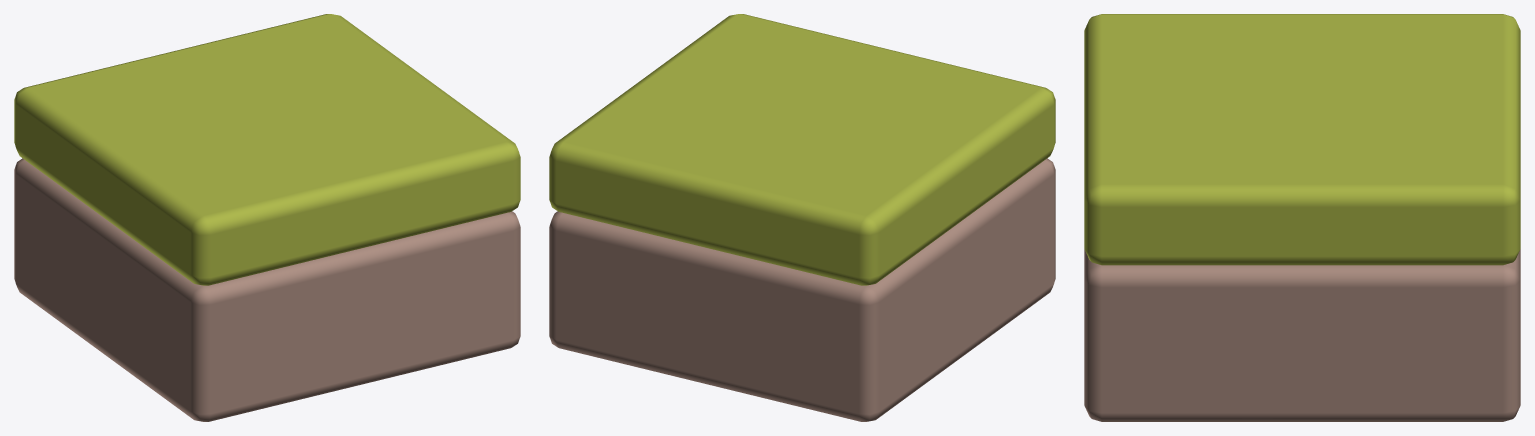
The model's file is Grass.fbx.
The picture shows the model from 3 angles, left to right: view 1: azimuth 30°, elevation 25°; view 2: azimuth 150°, elevation 25°; view 3: azimuth 270°, elevation 25°; orthographic projection. The views are drawn at different scales.
Visible parts, largest first — view 1: Cube.246; view 2: Cube.246; view 3: Cube.246.
Boxes of the visible parts, bbox=[...] form: Cube.246: bbox=[14, 14, 520, 421]; Cube.246: bbox=[549, 14, 1055, 421]; Cube.246: bbox=[1084, 14, 1520, 421].
Size of the model in its own units: 100 by 60.01 by 100.
1 material, 1 textured.
